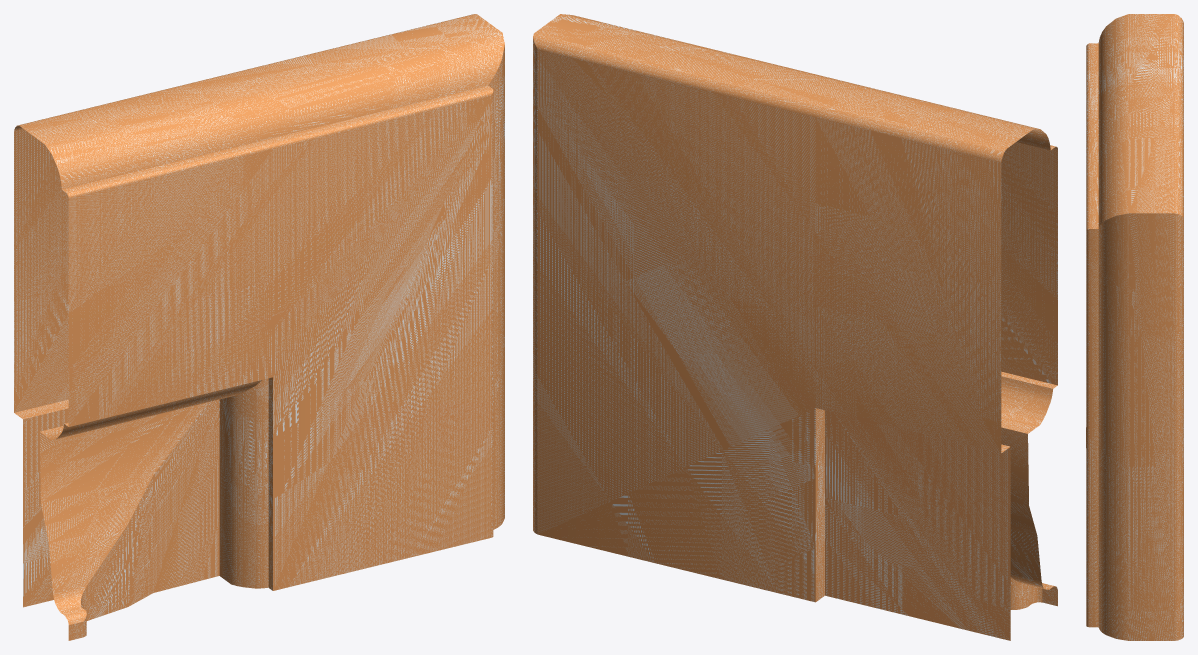
Rendered from original-39.obj.
3 views of the same model, side by side, from view 1: azimuth 30°, elevation 25°; view 2: azimuth 150°, elevation 25°; view 3: azimuth 270°, elevation 25° (orthographic). The views are drawn at different scales.
Visible parts, largest first — view 1: LT_11_TR1/LT_11_TR/mesh30/mesh30-geometry#mesh30-geometry; view 2: LT_11_TR1/LT_11_TR/mesh30/mesh30-geometry#mesh30-geometry; view 3: LT_11_TR1/LT_11_TR/mesh30/mesh30-geometry#mesh30-geometry.
Part boxes in pixels (bbox=[...]): LT_11_TR1/LT_11_TR/mesh30/mesh30-geometry#mesh30-geometry: bbox=[14, 14, 504, 640]; LT_11_TR1/LT_11_TR/mesh30/mesh30-geometry#mesh30-geometry: bbox=[533, 14, 1057, 640]; LT_11_TR1/LT_11_TR/mesh30/mesh30-geometry#mesh30-geometry: bbox=[1086, 14, 1183, 640].
Bounding box in the file's own units: 0.1375 × 0.1375 × 0.0285.
